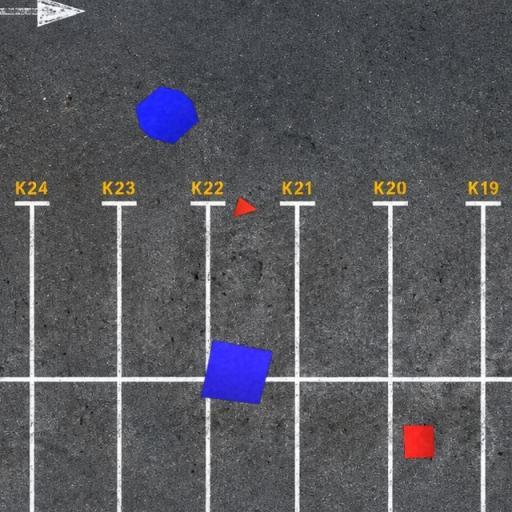BLUE_SQUARE: (200, 339, 274, 405)
RED_SQUARE: (404, 425, 434, 458)
